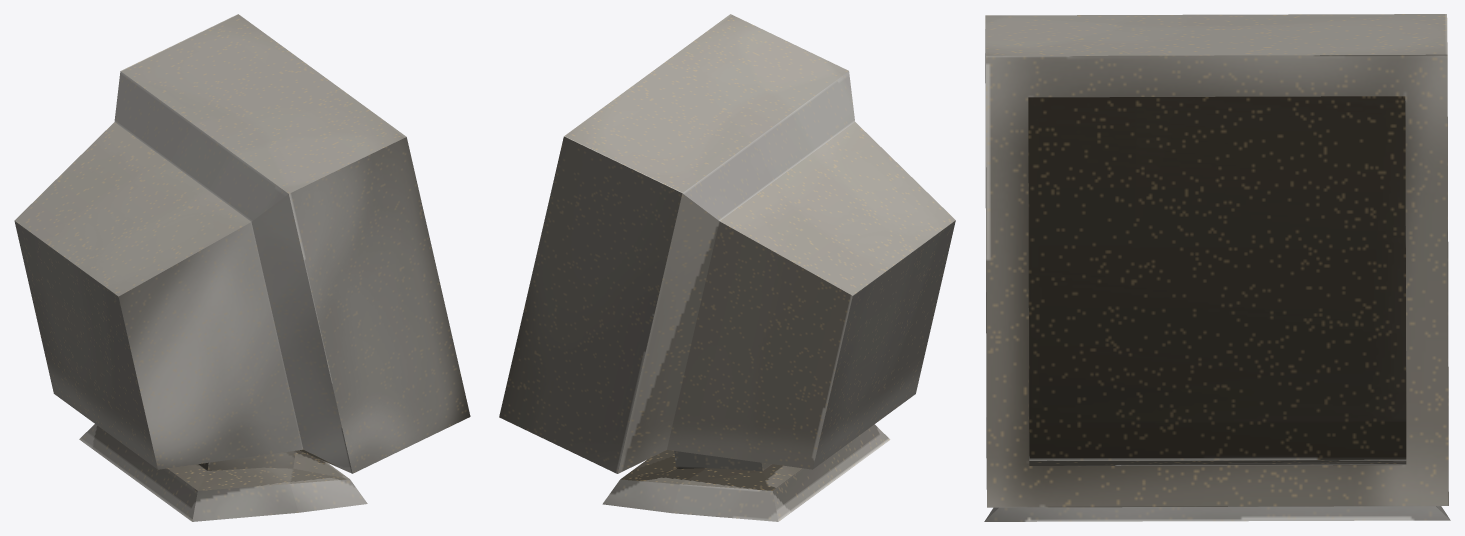
Rendered from Tietokone.fbx.
3 renders of one model, left to right at view 1: azimuth 30°, elevation 25°; view 2: azimuth 150°, elevation 25°; view 3: azimuth 270°, elevation 25°, orthographic. The views are drawn at different scales.
Visible parts, largest first — view 1: Cube; view 2: Cube; view 3: Cube.
Part boxes in pixels (box(x1,y1,x2,y2)): Cube: box(14, 14, 470, 521); Cube: box(499, 14, 955, 521); Cube: box(984, 14, 1450, 521).
Size of the model in its own units: 222 by 237 by 202.
